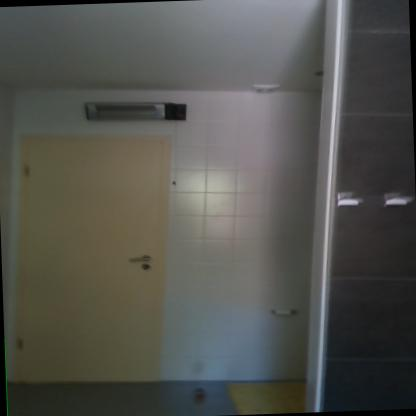closed: (5, 121, 182, 395)
